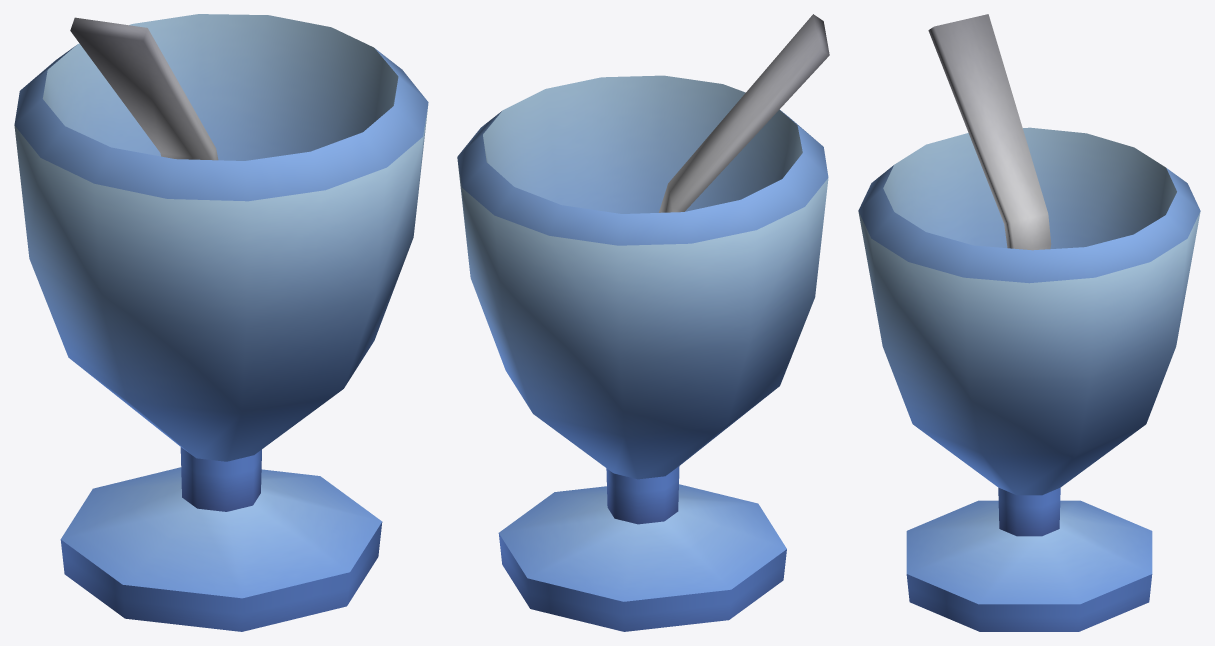
File: m_IceCreamBowl04.fbx
The picture shows the model from 3 angles, left to right: view 1: azimuth 30°, elevation 25°; view 2: azimuth 150°, elevation 25°; view 3: azimuth 270°, elevation 25°; orthographic projection. The views are drawn at different scales.
Visible parts, largest first — view 1: m_IceCreamBowl04; view 2: m_IceCreamBowl04; view 3: m_IceCreamBowl04.
Boxes of the visible parts, left/top/right/bottom form: m_IceCreamBowl04: left=14, top=14, right=428, bottom=631; m_IceCreamBowl04: left=457, top=14, right=829, bottom=631; m_IceCreamBowl04: left=858, top=14, right=1200, bottom=631.
Size of the model in its own units: 12.26 by 19.84 by 12.26.
